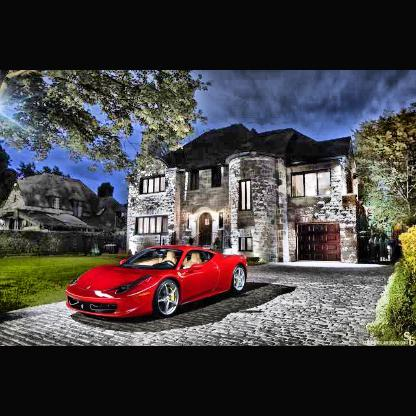Ferrari 458 Italia Coupe 2012: (67, 248, 250, 318)
